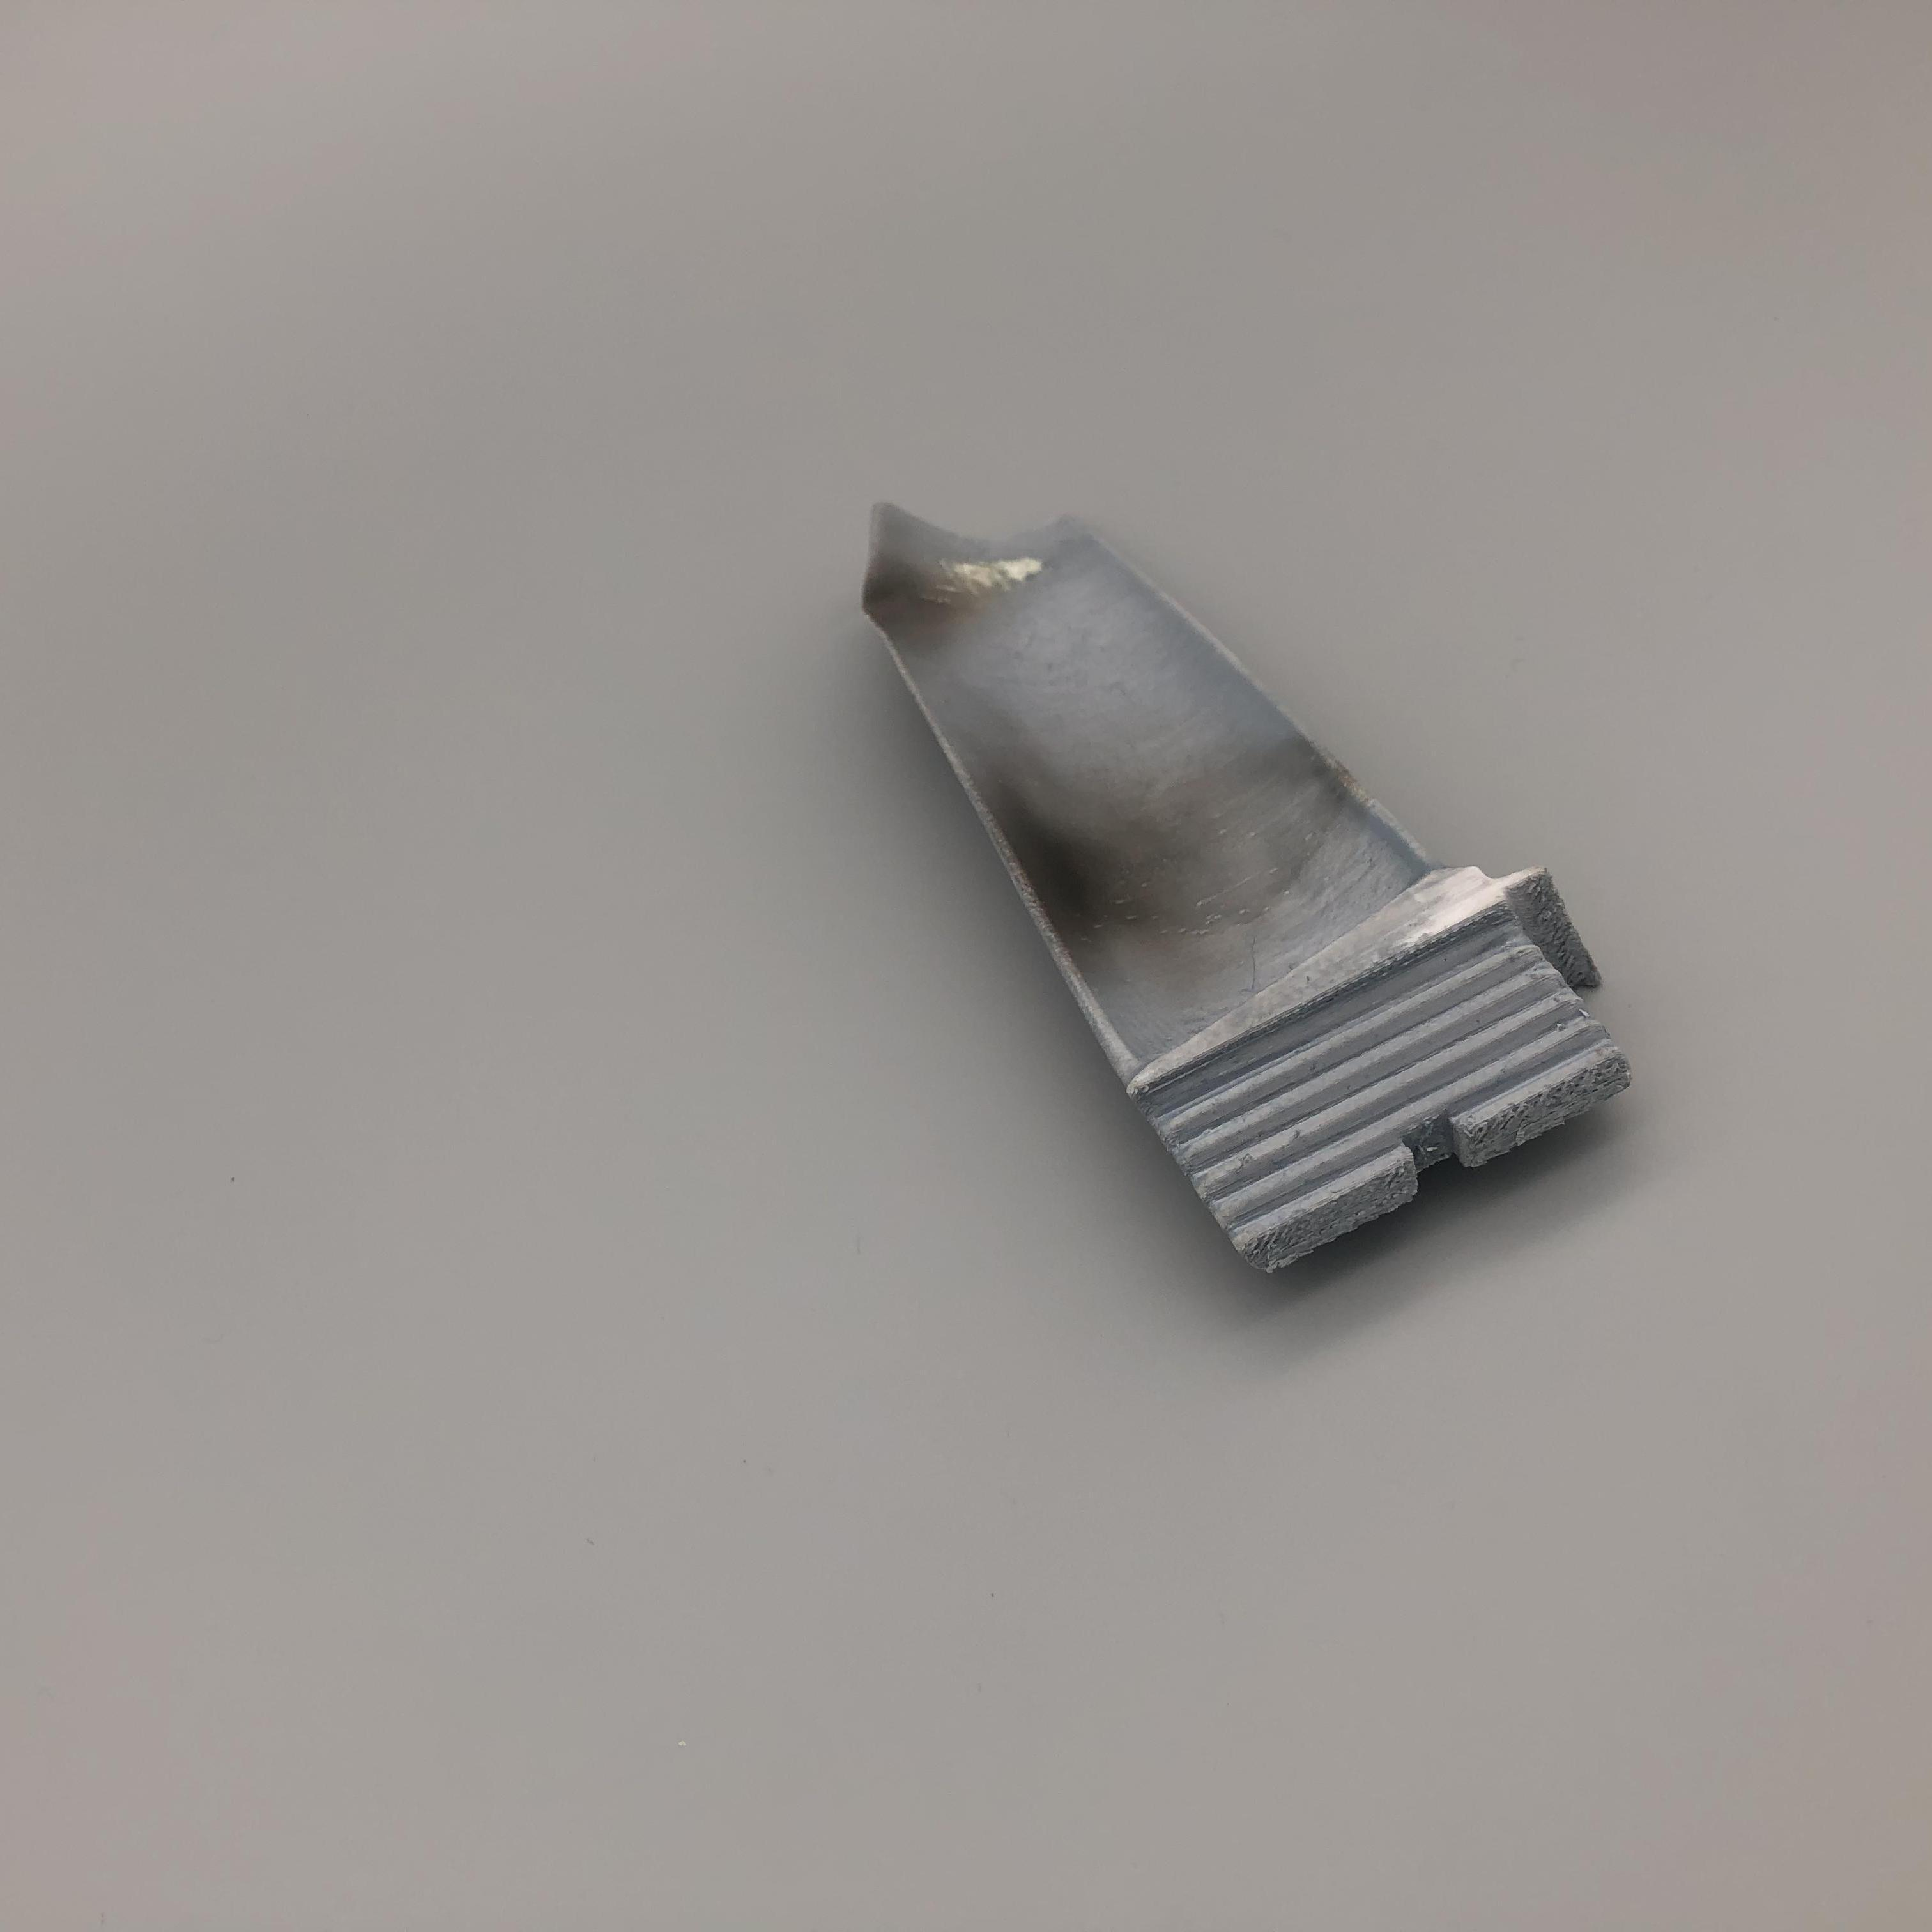ablation: (1014, 786, 1219, 959), (874, 559, 987, 649)
